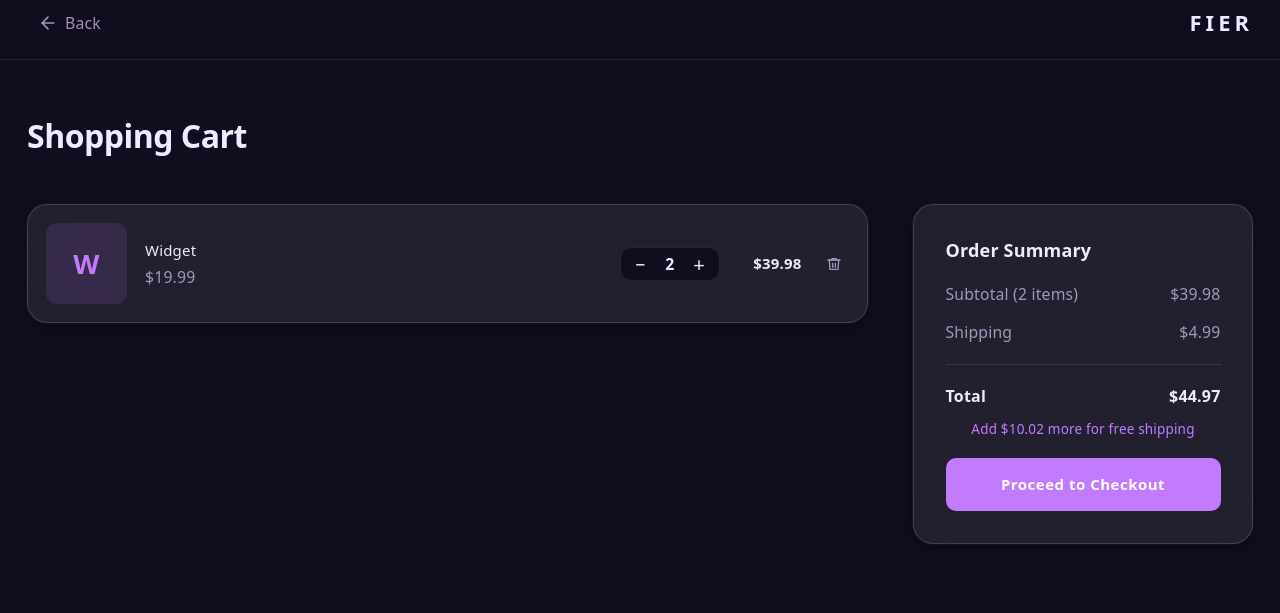
CartPage › shows unavailable item error message on 409 response
Click the button "Proceed to Checkout" at [1083, 485], box [946, 458, 1220, 512]
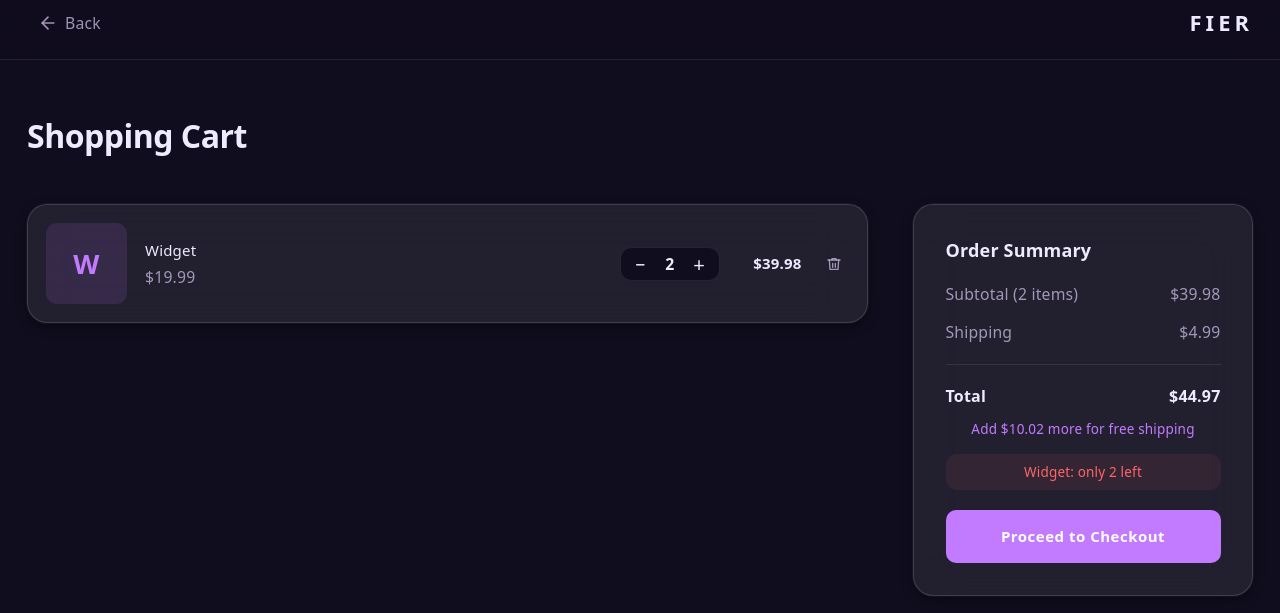
Expected: the text "Widget: only 2 left" is shown, [946, 454, 1220, 490]
